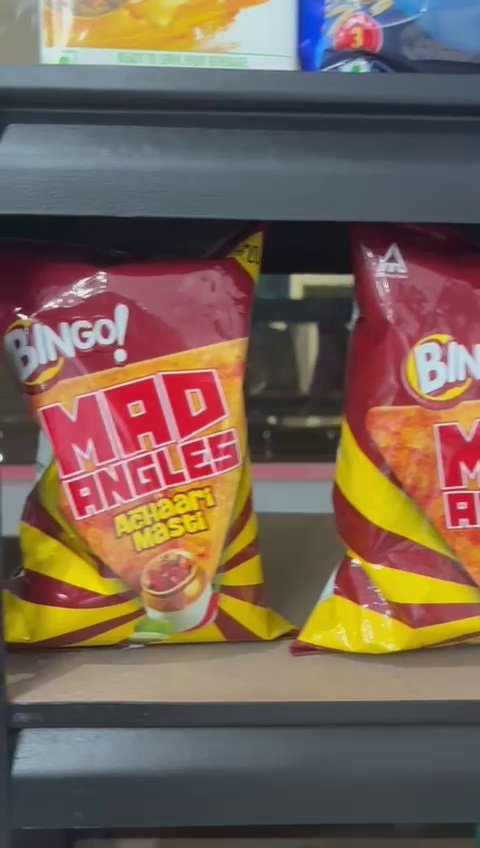Bingo Mad Angles: (0, 223, 292, 669)
